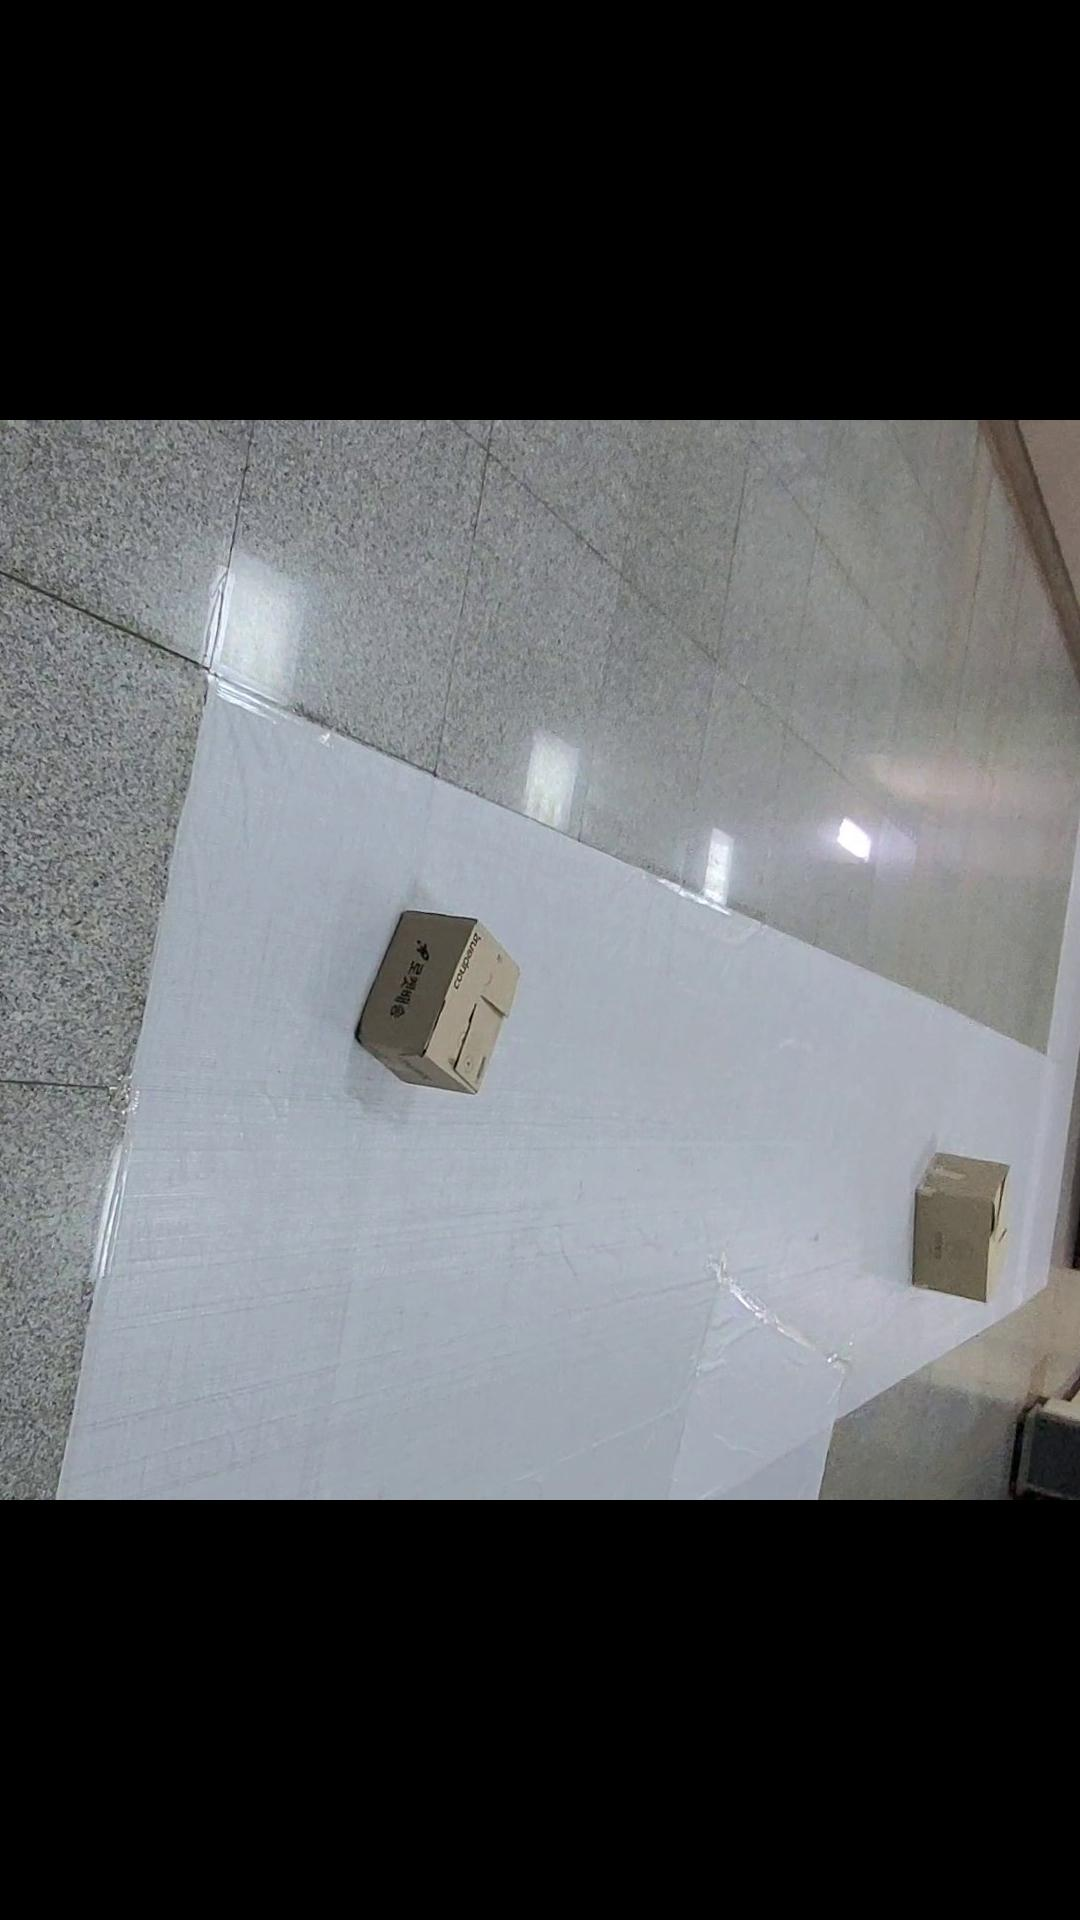Box: (322, 841, 556, 1145), (862, 1102, 1033, 1323)
